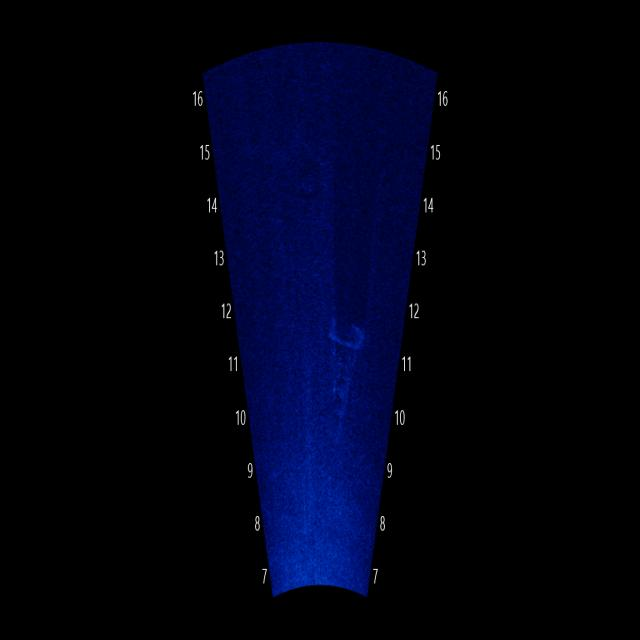circle: (292, 159, 325, 211)
triangle: (324, 308, 364, 459)
